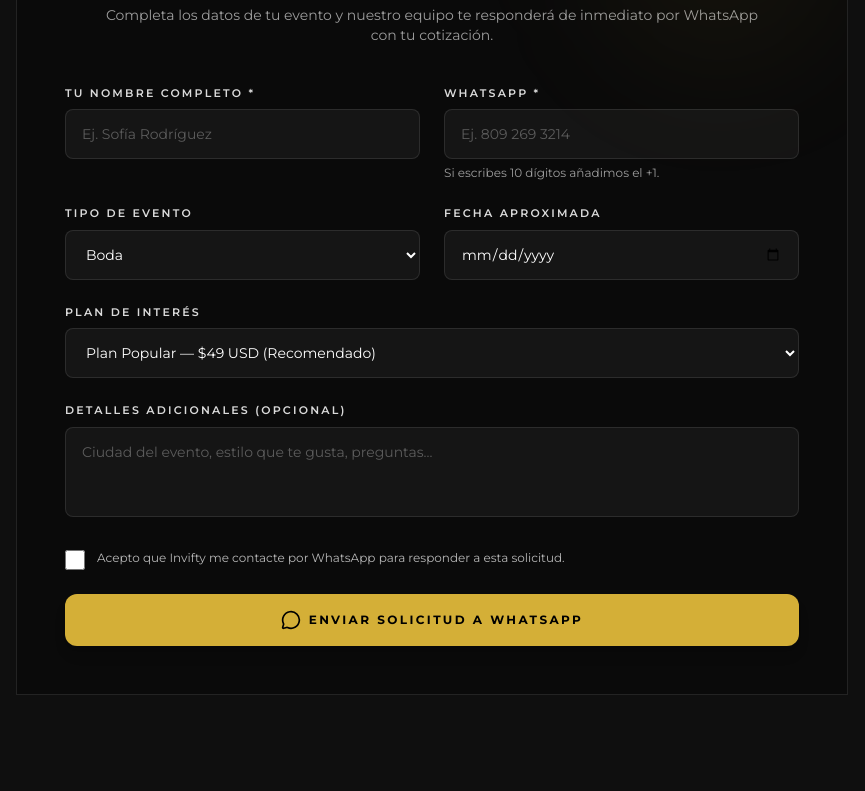
formulario de captación — validación › no envía nada si faltan los campos obligatorios
(page scrolled)
Click the button "Enviar Solicitud a WhatsApp".
click(432, 620)  # box [65,594,799,646]
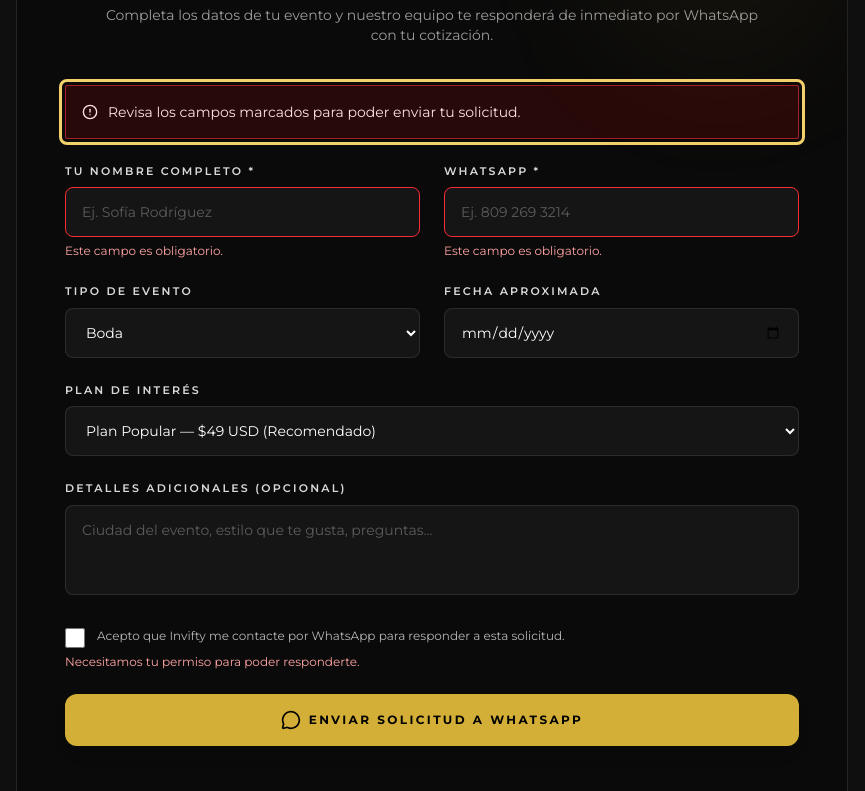
Check: the message "Revisa los campos marcados para poder enviar tu solicitud." is shown, box [65,84,799,138]
